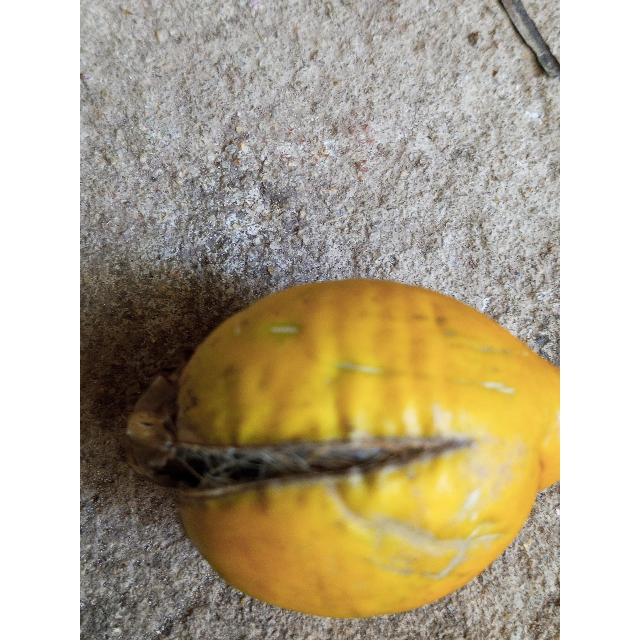damaged: (126, 279, 560, 617)
